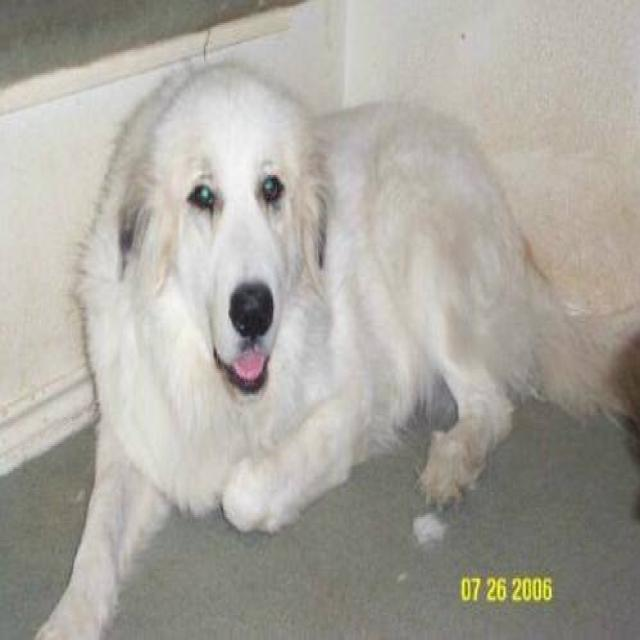dog: (32, 58, 639, 636)
